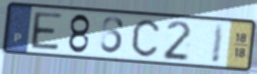2: (160, 20, 194, 62)
6: (100, 16, 126, 56)
8: (68, 13, 91, 54)
C: (130, 18, 161, 59)
E: (30, 11, 64, 52)
I: (210, 22, 227, 65)
